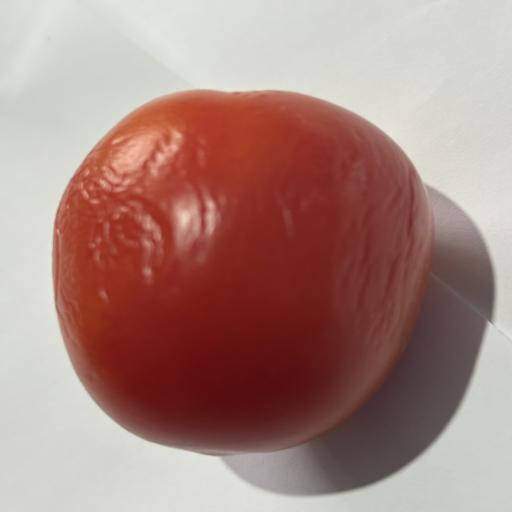spoiled: (53, 91, 433, 454)
